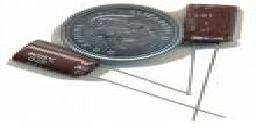Electrolytic Capacitor: (183, 1, 244, 128), (8, 39, 122, 104)
